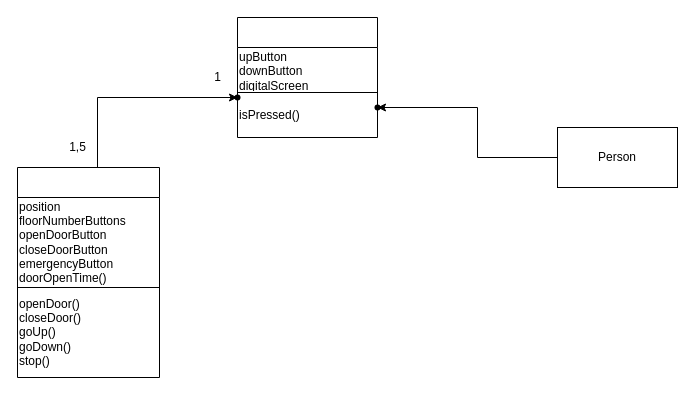
Image size: 695x395. Some labels were removed from this diagram. Here are the shapes that lost their labels. From the top down, the box of each, then its label:
(236, 16, 378, 138): Elevator Controller
(16, 166, 160, 378): Elevators
